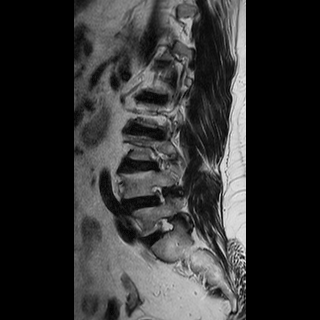LFS1: (151, 213, 177, 244), (147, 177, 171, 209)
